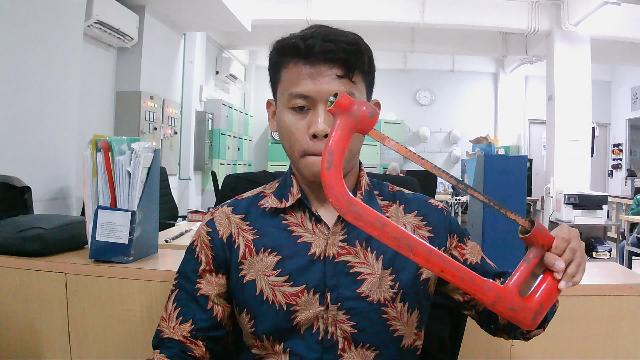gergaji_besi: (320, 85, 589, 333)
